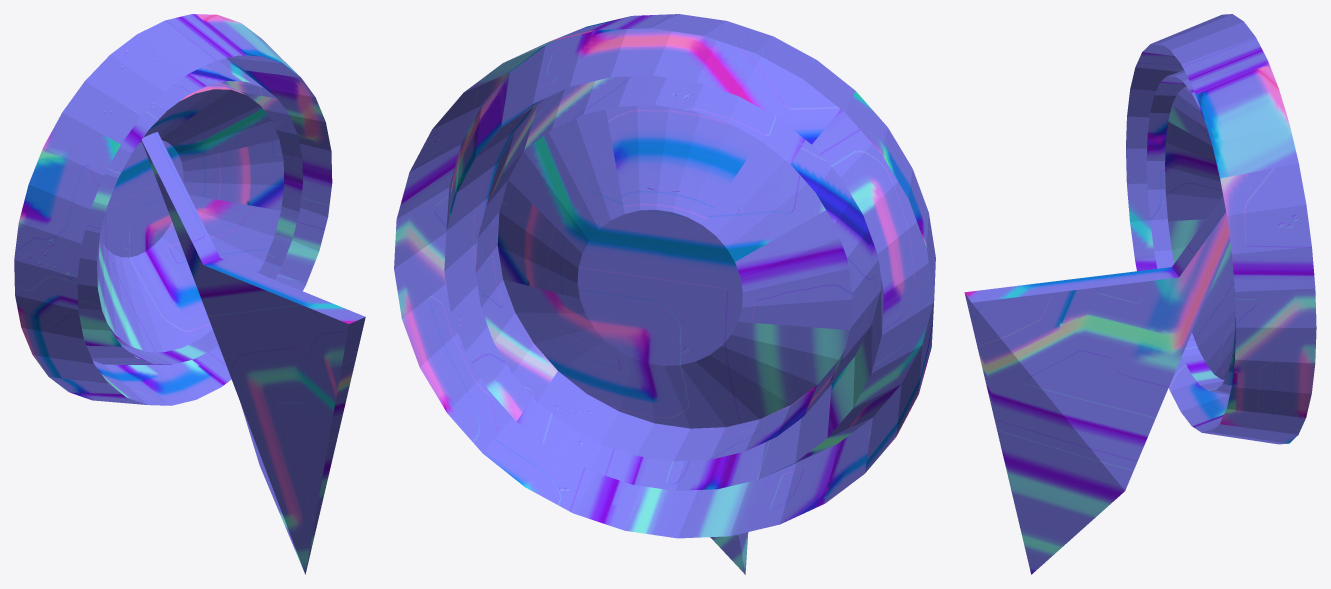
The model's file is radar8.obj.
The picture shows the model from 3 angles, left to right: view 1: azimuth 30°, elevation 25°; view 2: azimuth 150°, elevation 25°; view 3: azimuth 270°, elevation 25°; orthographic projection. The views are drawn at different scales.
Visible parts, largest first — view 1: radar; view 2: radar; view 3: radar.
Part boxes in pixels (x1=…): radar: x1=14, y1=14, x2=365, y2=574; radar: x1=394, y1=14, x2=935, y2=574; radar: x1=964, y1=14, x2=1316, y2=574.
Bounding box in the file's own units: 0.9484 × 1.3 × 0.7996.
